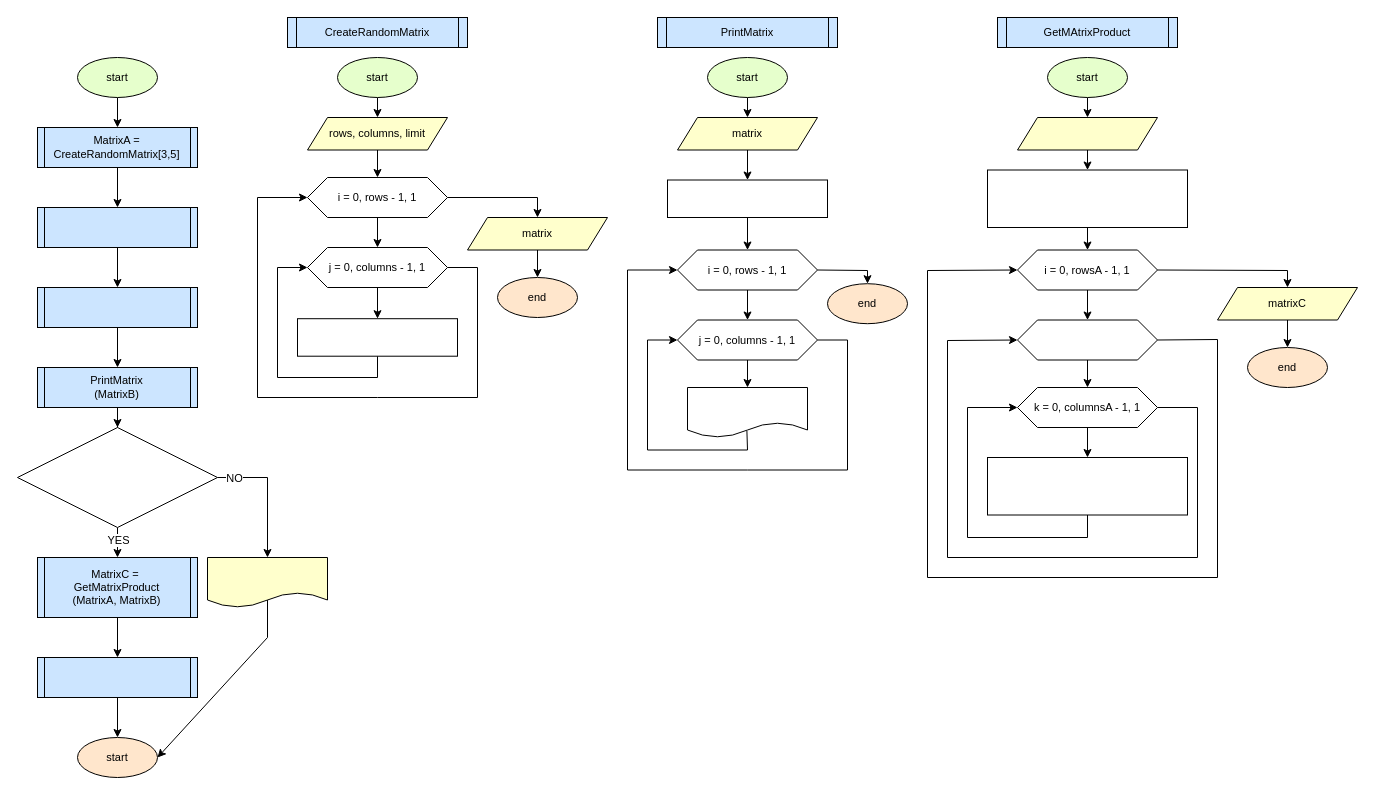
Image size: 1375x795. Some labels were removed from this diagram. The box of each missing label's shape, as (x1, y1, x2, y2) in pixels:
Columns(MatrixA) != Rows(MatrixB): (16, 426, 218, 528)
j = 0, columnsB - 1, 1: (1016, 319, 1158, 360)
matrix[i,j]: (686, 386, 808, 438)
matrix[i,j] = Random(0,limit): (296, 318, 458, 356)
matrixA matrixB: (1016, 116, 1158, 150)
MatrixB = CreateRandomMatrix[5, 2]: (36, 206, 198, 248)
matrixC[i, j] = matrixC[i, j] + matrixA[i, k] * matrixB[k, j];: (986, 456, 1188, 515)
PrintMatrix (MatrixA): (36, 286, 198, 328)
PrintMatrix (MatrixC): (36, 656, 198, 698)
rows = Rows(matrix) columns = Columns(matrix): (666, 179, 828, 218)
rowsA = Rows(matrixA) columnsB = Columns(matrixB) columnsA = Columns(matrixA): (986, 169, 1188, 228)
Умножение невозможно: (206, 556, 328, 608)
